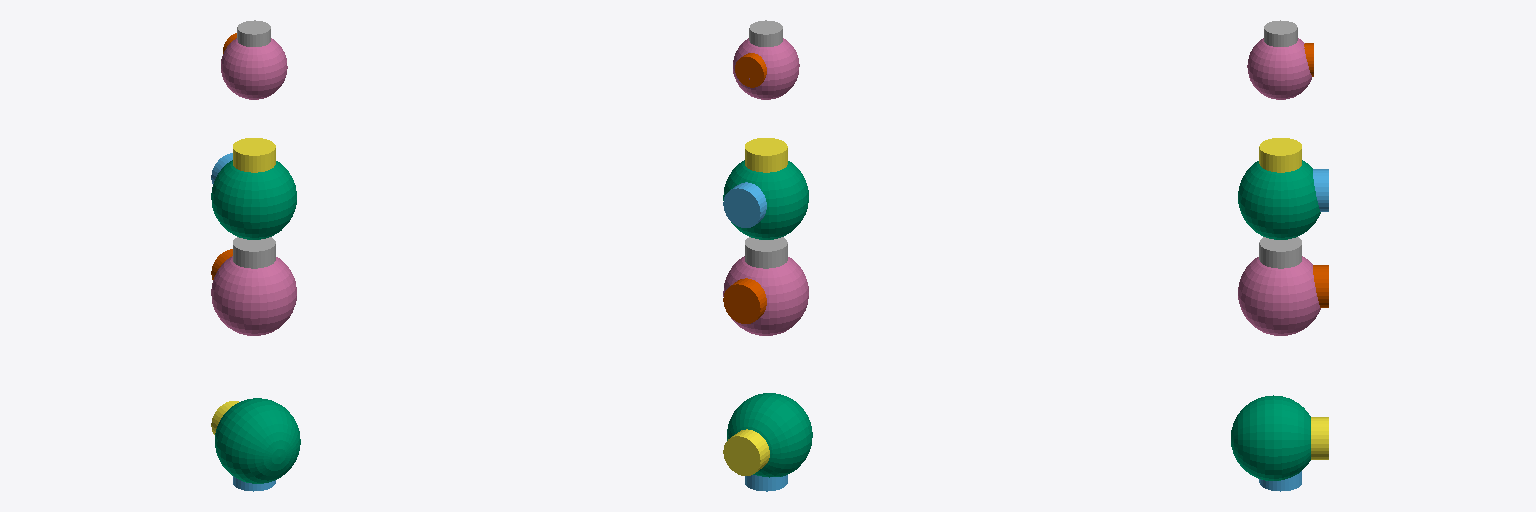
URDF robot description (robot):
<robot name="robot">
	<link name="1.1">
		<inertial>
			<origin xyz="0.0 0.0 0.0" rpy="0.0 0.0 0.0" />
			<mass value="0.0" />
			<inertia ixx="0.0" ixy="0.0" ixz="0.0" iyy="0.0" iyz="0.0" izz="0.0" />
		</inertial>
	</link>
	<link name="21.21_body_1">
		<inertial>
			<origin xyz="0.0 0.0 0.0" rpy="3.141592653589793 0.0 0.0" />
			<mass value="0.0" />
			<inertia ixx="0.0" ixy="0.0" ixz="0.0" iyy="0.0" iyz="0.0" izz="0.0" />
		</inertial>
		<visual name="21.21_body_1_visual">
			<origin xyz="0.0 0.0 -0.0225" rpy="3.141592653589793 0.0 0.0" />
			<geometry>
				<cylinder radius="0.045" length="0.045" />
			</geometry>
		</visual>
		<collision name="21.21_body_1_collision">
			<origin xyz="0.0 0.0 -0.0225" rpy="3.141592653589793 0.0 0.0" />
			<geometry>
				<cylinder radius="0.045" length="0.045" />
			</geometry>
		</collision>
	</link>
	<link name="21.21_body_2">
		<inertial>
			<origin xyz="0.0 0.019299999999999998 0.0833" rpy="-1.5707963267948966 0.0 0.0" />
			<mass value="3.9" />
			<inertia ixx="0.042799" ixy="0.0" ixz="0.0" iyy="0.037801" iyz="0.0" izz="0.010997" />
		</inertial>
		<visual name="21.21_body_2_visual">
			<origin xyz="0.0 -0.015 0.1013" rpy="-1.5707963267948966 0.0 0.0" />
			<geometry>
				<sphere radius="0.09" />
			</geometry>
		</visual>
		<collision name="21.21_body_2_collision">
			<origin xyz="0.0 -0.015 0.1013" rpy="-1.5707963267948966 0.0 0.0" />
			<geometry>
				<sphere radius="0.09" />
			</geometry>
		</collision>
	</link>
	<link name="21.21_body_3">
		<inertial>
			<origin xyz="0.0 0.0 0.0" rpy="0.0 0.0 0.0" />
			<mass value="0.0" />
			<inertia ixx="0.0" ixy="0.0" ixz="0.0" iyy="0.0" iyz="0.0" izz="0.0" />
		</inertial>
		<visual name="21.21_body_3_visual">
			<origin xyz="0.0 0.0 -0.0225" rpy="0.0 0.0 0.0" />
			<geometry>
				<cylinder radius="0.045" length="0.045" />
			</geometry>
		</visual>
		<collision name="21.21_body_3_collision">
			<origin xyz="0.0 0.0 -0.0225" rpy="0.0 0.0 0.0" />
			<geometry>
				<cylinder radius="0.045" length="0.045" />
			</geometry>
		</collision>
	</link>
	<link name="4.4">
		<inertial>
			<origin xyz="0.0 0.175 -0.0132" rpy="3.141592653589793 0.0 0.0" />
			<mass value="1.62" />
			<inertia ixx="0.074338" ixy="1e-06" ixz="-6e-06" iyy="0.017132" iyz="0.003742" izz="0.074338" />
		</inertial>
		<visual name="4.4_visual">
			<origin xyz="-1.2220184685950967e-15 0.35 0.0" rpy="1.1281287467401296e-29 -3.1086244689504383e-15 -1.8216880036222622e-44" />
			<geometry>
				<mesh filename="package://STLfiles/L1.stl" scale="1.0 1.0 1.0" />
			</geometry>
		</visual>
		<collision name="4.4_collision">
			<origin xyz="-1.2220184685950967e-15 0.35 0.0" rpy="1.1281287467401296e-29 -3.1086244689504383e-15 -1.8216880036222622e-44" />
			<geometry>
				<mesh filename="package://STLfiles/convexDecompose/L1.stl.wrl" scale="1.0 1.0 1.0" />
			</geometry>
		</collision>
	</link>
	<link name="21-1.21_body_1">
		<inertial>
			<origin xyz="0.0 0.0 0.0" rpy="3.141592653589793 0.0 0.0" />
			<mass value="0.0" />
			<inertia ixx="0.0" ixy="0.0" ixz="0.0" iyy="0.0" iyz="0.0" izz="0.0" />
		</inertial>
		<visual name="21-1.21_body_1_visual">
			<origin xyz="0.0 0.0 -0.0225" rpy="3.141592653589793 0.0 0.0" />
			<geometry>
				<cylinder radius="0.045" length="0.045" />
			</geometry>
		</visual>
		<collision name="21-1.21_body_1_collision">
			<origin xyz="0.0 0.0 -0.0225" rpy="3.141592653589793 0.0 0.0" />
			<geometry>
				<cylinder radius="0.045" length="0.045" />
			</geometry>
		</collision>
	</link>
	<link name="21-1.21_body_2">
		<inertial>
			<origin xyz="0.0 0.019299999999999998 0.0833" rpy="-1.5707963267948966 0.0 0.0" />
			<mass value="3.9" />
			<inertia ixx="0.042799" ixy="0.0" ixz="0.0" iyy="0.037801" iyz="0.0" izz="0.010997" />
		</inertial>
		<visual name="21-1.21_body_2_visual">
			<origin xyz="0.0 -0.015 0.1013" rpy="-1.5707963267948966 0.0 0.0" />
			<geometry>
				<sphere radius="0.09" />
			</geometry>
		</visual>
		<collision name="21-1.21_body_2_collision">
			<origin xyz="0.0 -0.015 0.1013" rpy="-1.5707963267948966 0.0 0.0" />
			<geometry>
				<sphere radius="0.09" />
			</geometry>
		</collision>
	</link>
	<link name="21-1.21_body_3">
		<inertial>
			<origin xyz="0.0 0.0 0.0" rpy="0.0 0.0 0.0" />
			<mass value="0.0" />
			<inertia ixx="0.0" ixy="0.0" ixz="0.0" iyy="0.0" iyz="0.0" izz="0.0" />
		</inertial>
		<visual name="21-1.21_body_3_visual">
			<origin xyz="0.0 0.0 -0.0225" rpy="0.0 0.0 0.0" />
			<geometry>
				<cylinder radius="0.045" length="0.045" />
			</geometry>
		</visual>
		<collision name="21-1.21_body_3_collision">
			<origin xyz="0.0 0.0 -0.0225" rpy="0.0 0.0 0.0" />
			<geometry>
				<cylinder radius="0.045" length="0.045" />
			</geometry>
		</collision>
	</link>
	<link name="15.15">
		<inertial>
			<origin xyz="-0.00018 -0.0477 -0.071" rpy="3.141592653589793 0.0 0.0" />
			<mass value="1.0" />
			<inertia ixx="0.013909" ixy="3e-06" ixz="6e-06" iyy="0.010894" iyz="-0.005211" izz="0.003893" />
		</inertial>
		<visual name="15.15_visual">
			<origin xyz="-3.273093307800421e-16 -0.1013 -0.11990000000000035" rpy="-1.570796326794893 3.3306690738754696e-15 -3.3306690738754696e-15" />
			<geometry>
				<mesh filename="package://STLfiles/L9.stl" scale="1.0 1.0 1.0" />
			</geometry>
		</visual>
		<collision name="15.15_collision">
			<origin xyz="-3.273093307800421e-16 -0.1013 -0.11990000000000035" rpy="-1.570796326794893 3.3306690738754696e-15 -3.3306690738754696e-15" />
			<geometry>
				<mesh filename="package://STLfiles/convexDecompose/L9.stl.wrl" scale="1.0 1.0 1.0" />
			</geometry>
		</collision>
	</link>
	<link name="22.22_body_1">
		<inertial>
			<origin xyz="0.0 0.0 0.0" rpy="3.141592653589793 0.0 0.0" />
			<mass value="0.0" />
			<inertia ixx="0.0" ixy="0.0" ixz="0.0" iyy="0.0" iyz="0.0" izz="0.0" />
		</inertial>
		<visual name="22.22_body_1_visual">
			<origin xyz="0.0 0.0 -0.0225" rpy="3.141592653589793 0.0 0.0" />
			<geometry>
				<cylinder radius="0.045" length="0.045" />
			</geometry>
		</visual>
		<collision name="22.22_body_1_collision">
			<origin xyz="0.0 0.0 -0.0225" rpy="3.141592653589793 0.0 0.0" />
			<geometry>
				<cylinder radius="0.045" length="0.045" />
			</geometry>
		</collision>
	</link>
	<link name="22.22_body_2">
		<inertial>
			<origin xyz="0.0 0.019299999999999998 0.0833" rpy="-1.5707963267948966 0.0 0.0" />
			<mass value="3.9" />
			<inertia ixx="0.042799" ixy="0.0" ixz="0.0" iyy="0.037801" iyz="0.0" izz="0.010997" />
		</inertial>
		<visual name="22.22_body_2_visual">
			<origin xyz="0.0 -0.015 0.1013" rpy="-1.5707963267948966 0.0 0.0" />
			<geometry>
				<sphere radius="0.09" />
			</geometry>
		</visual>
		<collision name="22.22_body_2_collision">
			<origin xyz="0.0 -0.015 0.1013" rpy="-1.5707963267948966 0.0 0.0" />
			<geometry>
				<sphere radius="0.09" />
			</geometry>
		</collision>
	</link>
	<link name="22.22_body_3">
		<inertial>
			<origin xyz="0.0 0.0 0.0" rpy="0.0 0.0 0.0" />
			<mass value="0.0" />
			<inertia ixx="0.0" ixy="0.0" ixz="0.0" iyy="0.0" iyz="0.0" izz="0.0" />
		</inertial>
		<visual name="22.22_body_3_visual">
			<origin xyz="0.0 0.0 -0.0225" rpy="0.0 0.0 0.0" />
			<geometry>
				<cylinder radius="0.045" length="0.045" />
			</geometry>
		</visual>
		<collision name="22.22_body_3_collision">
			<origin xyz="0.0 0.0 -0.0225" rpy="0.0 0.0 0.0" />
			<geometry>
				<cylinder radius="0.045" length="0.045" />
			</geometry>
		</collision>
	</link>
	<link name="5.5">
		<inertial>
			<origin xyz="-0.00018 -0.0477 -0.071" rpy="3.141592653589793 0.0 0.0" />
			<mass value="1.0" />
			<inertia ixx="0.013909" ixy="3e-06" ixz="6e-06" iyy="0.010894" iyz="-0.005211" izz="0.003893" />
		</inertial>
		<visual name="5.5_visual">
			<origin xyz="-2.41685468335115e-16 -0.0748 -0.19990000000000024" rpy="-1.570796326794893 3.3306690738754696e-15 -3.3306690738754696e-15" />
			<geometry>
				<mesh filename="package://STLfiles/L2.stl" scale="1.0 1.0 1.0" />
			</geometry>
		</visual>
		<collision name="5.5_collision">
			<origin xyz="-2.41685468335115e-16 -0.0748 -0.19990000000000024" rpy="-1.570796326794893 3.3306690738754696e-15 -3.3306690738754696e-15" />
			<geometry>
				<mesh filename="package://STLfiles/convexDecompose/L2.stl.wrl" scale="1.0 1.0 1.0" />
			</geometry>
		</collision>
	</link>
	<link name="23.23_body_1">
		<inertial>
			<origin xyz="0.0 0.0 0.0" rpy="3.141592653589793 0.0 0.0" />
			<mass value="0.0" />
			<inertia ixx="0.0" ixy="0.0" ixz="0.0" iyy="0.0" iyz="0.0" izz="0.0" />
		</inertial>
		<visual name="23.23_body_1_visual">
			<origin xyz="0.0 0.0 -0.022500000000000003" rpy="3.141592653589793 0.0 0.0" />
			<geometry>
				<cylinder radius="0.035" length="0.035" />
			</geometry>
		</visual>
		<collision name="23.23_body_1_collision">
			<origin xyz="0.0 0.0 -0.022500000000000003" rpy="3.141592653589793 0.0 0.0" />
			<geometry>
				<cylinder radius="0.035" length="0.035" />
			</geometry>
		</collision>
	</link>
	<link name="23.23_body_2">
		<inertial>
			<origin xyz="0.0 0.011800000000000005 0.06280000000000001" rpy="-1.5707963267948966 0.0 0.0" />
			<mass value="1.8" />
			<inertia ixx="0.01282" ixy="0.0" ixz="0.0" iyy="0.0112" iyz="0.0" izz="0.0032" />
		</inertial>
		<visual name="23.23_body_2_visual">
			<origin xyz="0.0 -0.015 0.0748" rpy="-1.5707963267948966 0.0 0.0" />
			<geometry>
				<sphere radius="0.07" />
			</geometry>
		</visual>
		<collision name="23.23_body_2_collision">
			<origin xyz="0.0 -0.015 0.0748" rpy="-1.5707963267948966 0.0 0.0" />
			<geometry>
				<sphere radius="0.07" />
			</geometry>
		</collision>
	</link>
	<link name="23.23_body_3">
		<inertial>
			<origin xyz="0.0 0.0 0.01" rpy="0.0 0.0 0.0" />
			<mass value="0.1" />
			<inertia ixx="3.07e-05" ixy="0.0" ixz="0.0" iyy="3.07e-05" iyz="0.0" izz="3.31e-05" />
		</inertial>
		<visual name="23.23_body_3_visual">
			<origin xyz="0.0 0.0 -0.0175" rpy="0.0 0.0 0.0" />
			<geometry>
				<cylinder radius="0.035" length="0.035" />
			</geometry>
		</visual>
		<collision name="23.23_body_3_collision">
			<origin xyz="0.0 0.0 -0.0175" rpy="0.0 0.0 0.0" />
			<geometry>
				<cylinder radius="0.035" length="0.035" />
			</geometry>
		</collision>
	</link>
	<link name="12.12">
		<inertial>
			<origin xyz="0.0 0.0 -0.04" rpy="3.141592653589793 0.0 0.0" />
			<mass value="1.4" />
			<inertia ixx="0.004" ixy="0.0" ixz="0.0" iyy="0.0039" iyz="0.0" izz="0.0006" />
		</inertial>
		<visual name="12.12_visual">
			<origin xyz="0.0 0.0 -0.163" rpy="3.141592653589793 0.0 0.0" />
			<geometry>
				<mesh filename="package://STLfiles/L3.stl" scale="1.0 1.0 1.0" />
			</geometry>
		</visual>
		<collision name="12.12_collision">
			<origin xyz="0.0 0.0 -0.163" rpy="3.141592653589793 0.0 0.0" />
			<geometry>
				<mesh filename="package://STLfiles/convexDecompose/L3.stl.wrl" scale="1.0 1.0 1.0" />
			</geometry>
		</collision>
	</link>
	<link name="12.12.12_distal_connector.body" />
	<joint name="21.21_body_1.21_proximal_connector" type="fixed">
		<origin xyz="0.0 0.0 0.0" rpy="3.141592653589793 0.0 0.0" />
		<parent link="1.1" />
		<child link="21.21_body_1" />
	</joint>
	<joint name="21.21_joint_1" type="revolute">
		<origin xyz="0.0 0.0 0.0" rpy="3.141592653589793 0.0 0.0" />
		<parent link="21.21_body_1" />
		<child link="21.21_body_2" />
		<axis xyz="0 0 1" />
		<dynamics damping="15.68" friction="7.14" />
		<limit lower="-3.14159265358979" upper="3.14159265358979" effort="75.504" velocity="0.0" />
	</joint>
	<joint name="21.21_joint_2" type="revolute">
		<origin xyz="0.0 0.1013 0.1013" rpy="-1.5707963267948966 0.0 0.0" />
		<parent link="21.21_body_2" />
		<child link="21.21_body_3" />
		<axis xyz="0 0 1" />
		<dynamics damping="13.91" friction="5.1" />
		<limit lower="-3.14159265358979" upper="3.14159265358979" effort="75.504" velocity="0.0" />
	</joint>
	<joint name="4.4.4_proximal_connector" type="fixed">
		<origin xyz="0.0 0.0 0.0" rpy="3.141592653589793 0.0 0.0" />
		<parent link="21.21_body_3" />
		<child link="4.4" />
	</joint>
	<joint name="21-1.21_body_1.21_proximal_connector" type="fixed">
		<origin xyz="0.0 0.35 0.0" rpy="3.141592653589793 0.0 0.0" />
		<parent link="4.4" />
		<child link="21-1.21_body_1" />
	</joint>
	<joint name="21-1.21_joint_1" type="revolute">
		<origin xyz="0.0 0.0 0.0" rpy="3.141592653589793 0.0 0.0" />
		<parent link="21-1.21_body_1" />
		<child link="21-1.21_body_2" />
		<axis xyz="0 0 1" />
		<dynamics damping="15.68" friction="7.14" />
		<limit lower="-3.14159265358979" upper="3.14159265358979" effort="75.504" velocity="0.0" />
	</joint>
	<joint name="21-1.21_joint_2" type="revolute">
		<origin xyz="0.0 0.1013 0.1013" rpy="-1.5707963267948966 0.0 0.0" />
		<parent link="21-1.21_body_2" />
		<child link="21-1.21_body_3" />
		<axis xyz="0 0 1" />
		<dynamics damping="13.91" friction="5.1" />
		<limit lower="-3.14159265358979" upper="3.14159265358979" effort="75.504" velocity="0.0" />
	</joint>
	<joint name="15.15.15_proximal_connector" type="fixed">
		<origin xyz="0.0 0.0 0.0" rpy="3.141592653589793 0.0 0.0" />
		<parent link="21-1.21_body_3" />
		<child link="15.15" />
	</joint>
	<joint name="22.22_body_1.22_proximal_connector" type="fixed">
		<origin xyz="0.0 -0.1013 -0.1199" rpy="1.5707963267948966 0.0 0.0" />
		<parent link="15.15" />
		<child link="22.22_body_1" />
	</joint>
	<joint name="22.22_joint_1" type="revolute">
		<origin xyz="0.0 0.0 0.0" rpy="3.141592653589793 0.0 0.0" />
		<parent link="22.22_body_1" />
		<child link="22.22_body_2" />
		<axis xyz="0 0 1" />
		<dynamics damping="17.89" friction="6.84" />
		<limit lower="-3.14159265358979" upper="3.14159265358979" effort="75.504" velocity="0.0" />
	</joint>
	<joint name="22.22_joint_2" type="revolute">
		<origin xyz="0.0 0.1013 0.1013" rpy="-1.5707963267948966 0.0 0.0" />
		<parent link="22.22_body_2" />
		<child link="22.22_body_3" />
		<axis xyz="0 0 1" />
		<dynamics damping="13.63" friction="6.91" />
		<limit lower="-3.14159265358979" upper="3.14159265358979" effort="75.504" velocity="0.0" />
	</joint>
	<joint name="5.5.5_proximal_connector" type="fixed">
		<origin xyz="0.0 0.0 0.0" rpy="3.141592653589793 0.0 0.0" />
		<parent link="22.22_body_3" />
		<child link="5.5" />
	</joint>
	<joint name="23.23_body_1.23_proximal_connector" type="fixed">
		<origin xyz="0.0 -0.0748 -0.1999" rpy="1.5707963267948966 0.0 0.0" />
		<parent link="5.5" />
		<child link="23.23_body_1" />
	</joint>
	<joint name="23.23_joint_1" type="revolute">
		<origin xyz="0.0 0.0 0.0" rpy="3.141592653589793 0.0 0.0" />
		<parent link="23.23_body_1" />
		<child link="23.23_body_2" />
		<axis xyz="0 0 1" />
		<dynamics damping="4.45" friction="2.12" />
		<limit lower="-3.14159265358979" upper="3.14159265358979" effort="40.0" velocity="0.0" />
	</joint>
	<joint name="23.23_joint_2" type="revolute">
		<origin xyz="0.0 0.0748 0.0748" rpy="-1.5707963267948966 0.0 0.0" />
		<parent link="23.23_body_2" />
		<child link="23.23_body_3" />
		<axis xyz="0 0 1" />
		<dynamics damping="4.67" friction="2.33" />
		<limit lower="-3.14159265358979" upper="3.14159265358979" effort="40.0" velocity="0.0" />
	</joint>
	<joint name="12.12.12_proximal_connector" type="fixed">
		<origin xyz="0.0 0.0 0.0" rpy="3.141592653589793 0.0 0.0" />
		<parent link="23.23_body_3" />
		<child link="12.12" />
	</joint>
	<joint name="12.12.12_distal_connector" type="fixed">
		<origin xyz="0.0 0.0 -0.163" rpy="3.141592653589793 0.0 0.0" />
		<parent link="12.12" />
		<child link="12.12.12_distal_connector.body" />
	</joint>
</robot>

--- Facts derived from the render (not from the file) ---
3 views of the same robot in one strip: view 1: azimuth 30°, elevation 25°; view 2: azimuth 150°, elevation 25°; view 3: azimuth 270°, elevation 25° (orthographic).
Model robot with 18 links and 17 joints (8 revolute, 9 fixed), rooted at 1.1, posed every joint at zero.
Links seen in each view (by area): view 1: 21.21_body_2, 21-1.21_body_2, 22.22_body_2, 23.23_body_2, 22.22_body_3, 21-1.21_body_3, 23.23_body_3; view 2: 21.21_body_2, 22.22_body_2, 21-1.21_body_2, 23.23_body_2, 21.21_body_3, 21-1.21_body_1, 22.22_body_1, 22.22_body_3, 21-1.21_body_3, 23.23_body_1, 23.23_body_3, 21.21_body_1; view 3: 21.21_body_2, 22.22_body_2, 21-1.21_body_2, 23.23_body_2, 22.22_body_3, 21-1.21_body_3, 23.23_body_3, 21.21_body_3, 21-1.21_body_1, 22.22_body_1.
Boxes of the visible links, bbox=[...] form: 21.21_body_2: bbox=[215, 398, 300, 483]; 21-1.21_body_2: bbox=[211, 256, 296, 335]; 22.22_body_2: bbox=[211, 160, 296, 239]; 23.23_body_2: bbox=[221, 38, 287, 99]; 22.22_body_3: bbox=[233, 138, 275, 172]; 21-1.21_body_3: bbox=[233, 237, 275, 268]; 23.23_body_3: bbox=[237, 20, 270, 46]; 21.21_body_2: bbox=[727, 393, 812, 477]; 22.22_body_2: bbox=[723, 160, 808, 239]; 21-1.21_body_2: bbox=[723, 256, 808, 335]; 23.23_body_2: bbox=[733, 38, 799, 99]; 21.21_body_3: bbox=[723, 429, 769, 475]; 21-1.21_body_1: bbox=[723, 278, 766, 323]; 22.22_body_1: bbox=[723, 182, 766, 227]; 22.22_body_3: bbox=[745, 138, 787, 172]; 21-1.21_body_3: bbox=[745, 237, 787, 268]; 23.23_body_1: bbox=[735, 53, 766, 87]; 23.23_body_3: bbox=[749, 20, 782, 46]; 21.21_body_1: bbox=[745, 475, 787, 491]; 21.21_body_2: bbox=[1231, 395, 1310, 480]; 22.22_body_2: bbox=[1238, 160, 1320, 239]; 21-1.21_body_2: bbox=[1238, 256, 1320, 335]; 23.23_body_2: bbox=[1247, 38, 1311, 99]; 22.22_body_3: bbox=[1259, 138, 1301, 172]; 21-1.21_body_3: bbox=[1259, 237, 1301, 268]; 23.23_body_3: bbox=[1264, 20, 1297, 46]; 21.21_body_3: bbox=[1311, 417, 1328, 459]; 21-1.21_body_1: bbox=[1313, 265, 1328, 307]; 22.22_body_1: bbox=[1313, 169, 1328, 211].
Bounding box of the posed robot: 0.18 × 0.2063 × 1.05 m (x, y, z).
0 mesh visuals loaded from 4 distinct referenced files (none loaded); not drawn: 4 (reference not matched to a file when rendering).